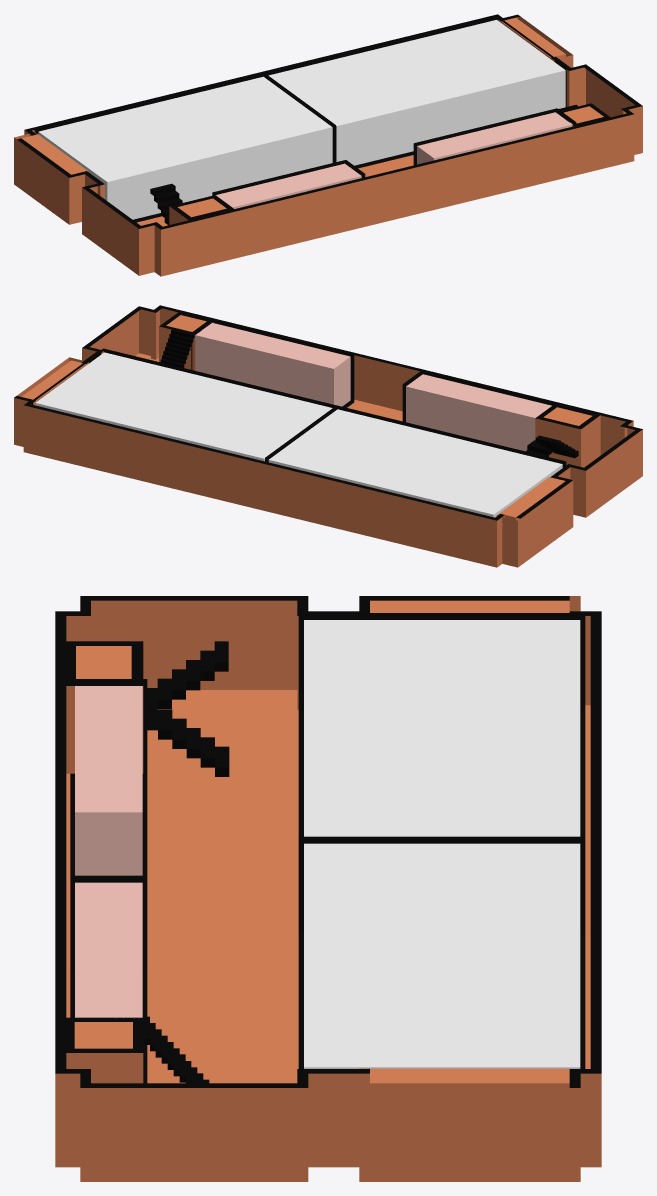
3 renders of one model, top to bottom at view 1: azimuth 30°, elevation 25°; view 2: azimuth 150°, elevation 25°; view 3: azimuth 270°, elevation 25°, orthographic. The views are drawn at different scales.
Visible parts, largest first — view 1: object, room_7_B1_1, room_7_B1_2, トイレ_7_B1_1, トイレ_7_B1_2, object_line.001, object_line.002, object_line, 階段_7_B1_1, object_line.003; view 2: object, room_7_B1_1, room_7_B1_2, トイレ_7_B1_1, トイレ_7_B1_2, object_line.001, object_line.002, object_line, 階段_7_B1_2, object_line.003, 階段_7_B1_1; view 3: object, room_7_B1_1, room_7_B1_2, トイレ_7_B1_2, トイレ_7_B1_1, object_line.002, 階段_7_B1_1, object_line.001, object_line, object_line.003, 階段_7_B1_2.
Part boxes in pixels (x1,y1,x2,y2): object: [14, 14, 642, 276]; room_7_B1_1: [268, 20, 565, 165]; room_7_B1_2: [38, 76, 332, 219]; トイレ_7_B1_1: [417, 112, 572, 164]; トイレ_7_B1_2: [215, 163, 361, 208]; object_line.001: [34, 73, 335, 222]; object_line.002: [265, 16, 569, 168]; object_line: [413, 108, 576, 165]; 階段_7_B1_1: [150, 183, 182, 225]; object_line.003: [212, 160, 365, 195]; object: [14, 305, 642, 567]; room_7_B1_1: [35, 352, 332, 461]; room_7_B1_2: [268, 409, 562, 517]; トイレ_7_B1_1: [195, 323, 350, 406]; トイレ_7_B1_2: [406, 374, 551, 451]; object_line.001: [265, 405, 566, 467]; object_line.002: [31, 348, 336, 409]; object_line: [191, 319, 354, 407]; 階段_7_B1_2: [160, 329, 194, 367]; object_line.003: [402, 370, 555, 422]; 階段_7_B1_1: [526, 435, 578, 458]; object: [55, 596, 601, 1181]; room_7_B1_1: [304, 843, 580, 1068]; room_7_B1_2: [304, 620, 580, 836]; トイレ_7_B1_2: [75, 686, 142, 875]; トイレ_7_B1_1: [75, 882, 142, 1018]; object_line.002: [298, 836, 585, 1068]; 階段_7_B1_1: [144, 641, 229, 776]; object_line.001: [298, 613, 585, 836]; object_line: [70, 875, 147, 1083]; object_line.003: [70, 679, 147, 875]; 階段_7_B1_2: [144, 1016, 209, 1083].
Size of the model in its own units: 1.97 by 0.1854 by 0.9257.
